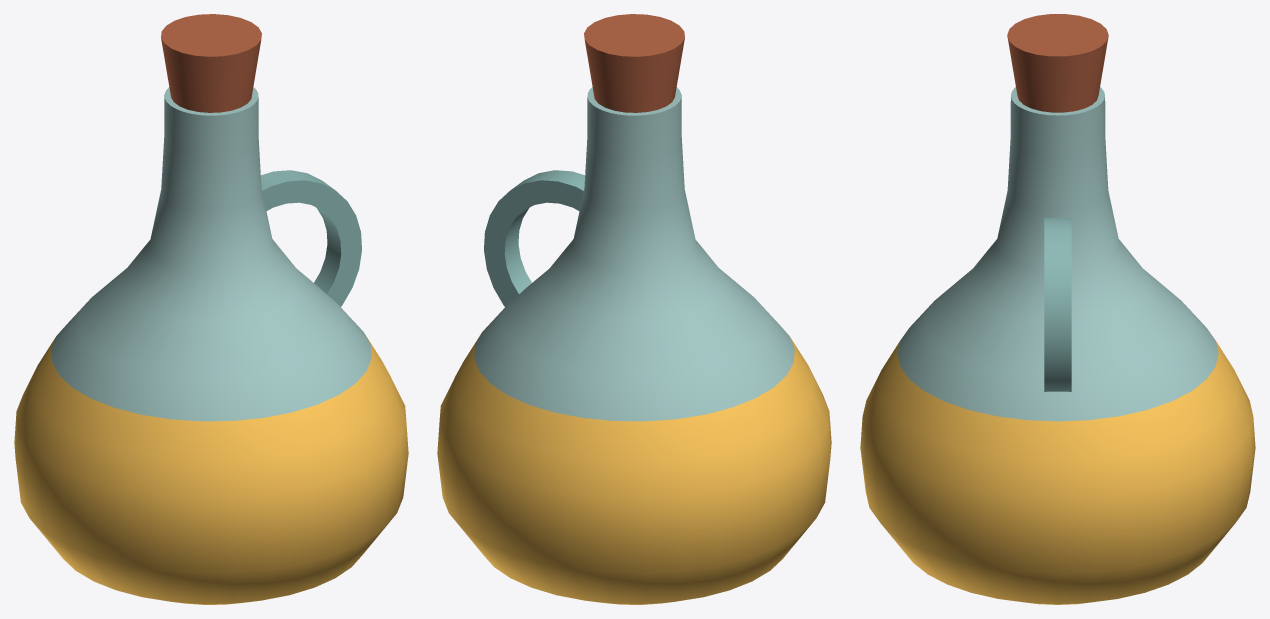
Rendered from Olive Oil Bottle.fbx.
3 views of the same model, side by side, from view 1: azimuth 30°, elevation 25°; view 2: azimuth 150°, elevation 25°; view 3: azimuth 270°, elevation 25° (orthographic).
Parts seen in each view (by area): view 1: Olive Oil Bottle; view 2: Olive Oil Bottle; view 3: Olive Oil Bottle.
Part boxes in pixels (bbox=[...]): Olive Oil Bottle: bbox=[14, 14, 408, 604]; Olive Oil Bottle: bbox=[437, 14, 831, 604]; Olive Oil Bottle: bbox=[860, 14, 1255, 604].
Size of the model in its own units: 0.7102 by 1.07 by 0.7102.
